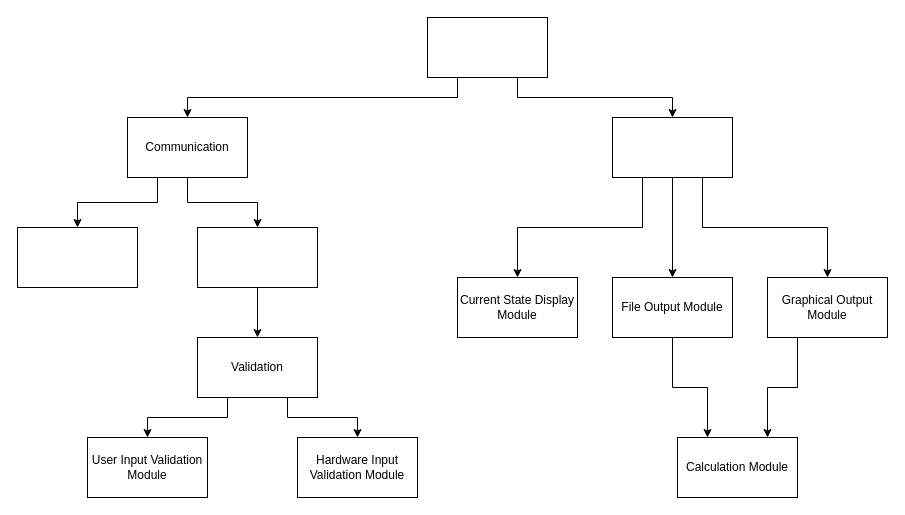
Image size: 905x515. Some labels were removed from this diagram. Each missing label, with the centre of its shape:
Display: (x=672, y=147)
Input Communication Module: (x=257, y=257)
Remote Access Module: (x=77, y=257)
ReSprint: (x=487, y=47)
